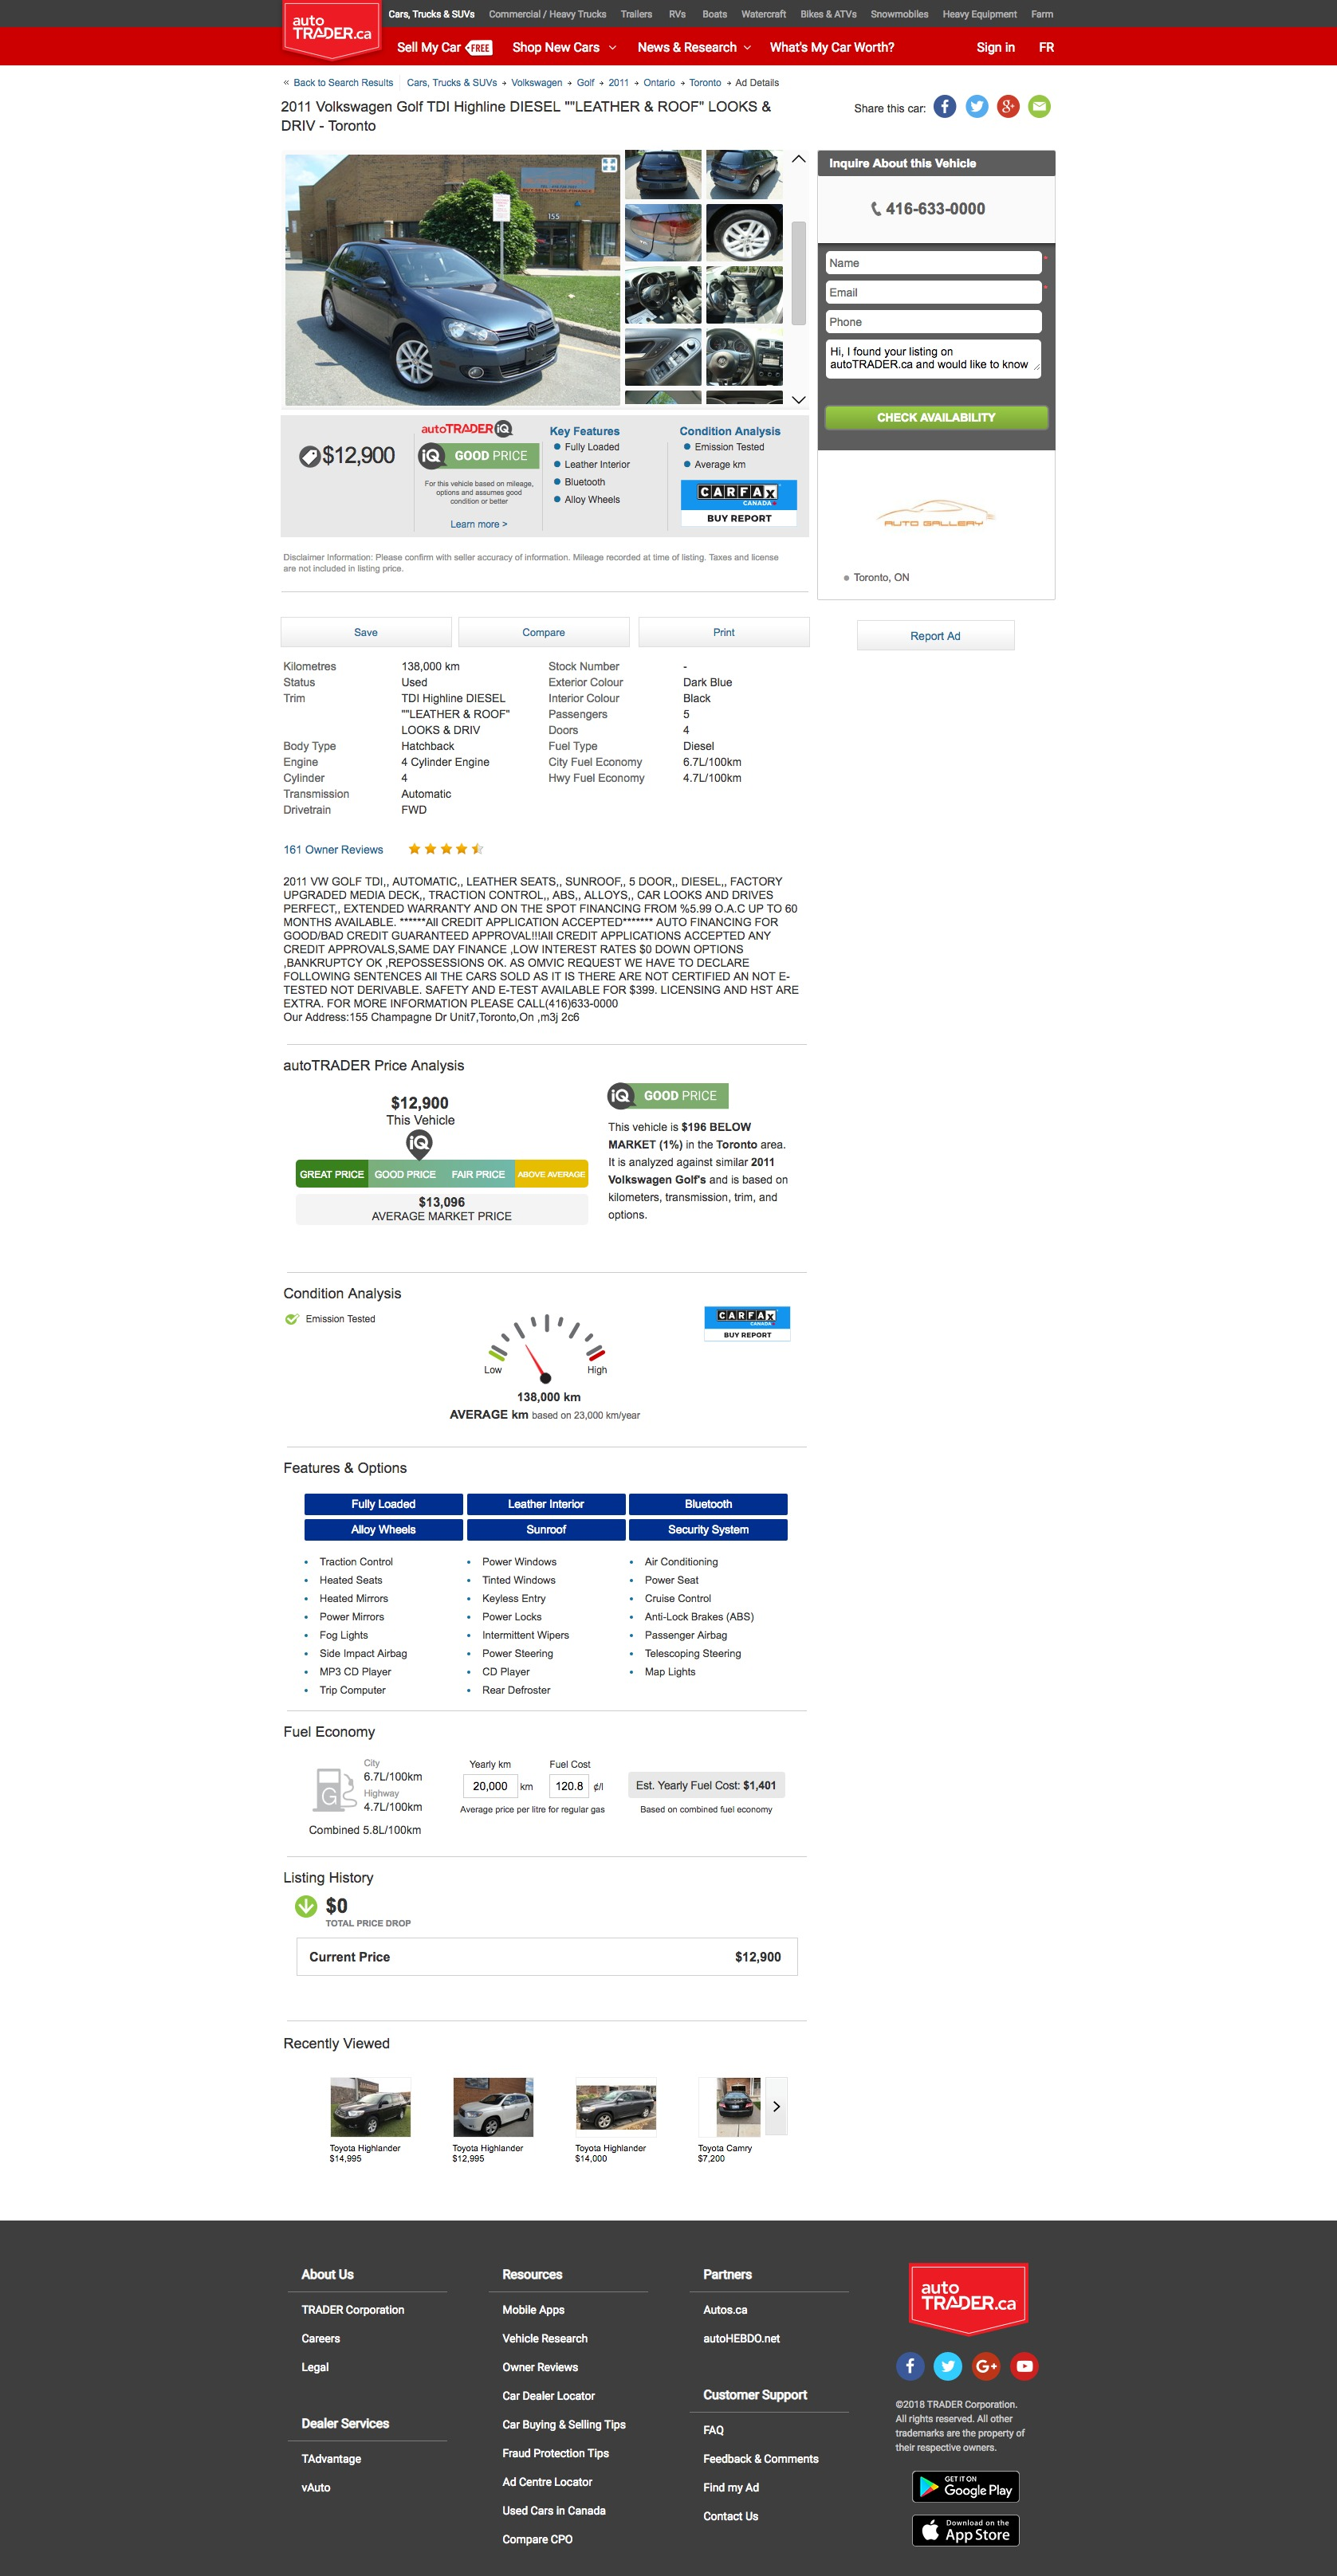car: (790, 395, 809, 407)
